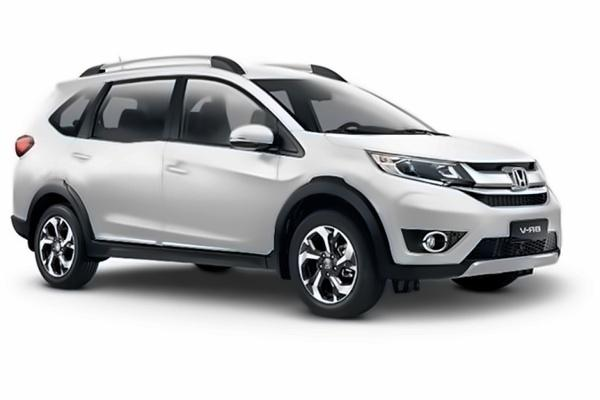Car hood: (313, 130, 546, 168)
Driver-s door - -F-R-: (161, 63, 279, 263)
Fender - -F-R-: (267, 125, 382, 211)
Fender - -R-R-: (14, 118, 69, 228)
Front bumper: (341, 172, 569, 284)
Headlight - -R-: (362, 148, 473, 189)
Passenger-s door - -R-R-: (63, 68, 180, 251)
Rear bumper: (8, 166, 47, 241)
Rear light - -R-: (14, 134, 37, 160)
Side bumper - -R-: (80, 222, 287, 274)
Side mirror - -R-: (227, 126, 281, 151)
